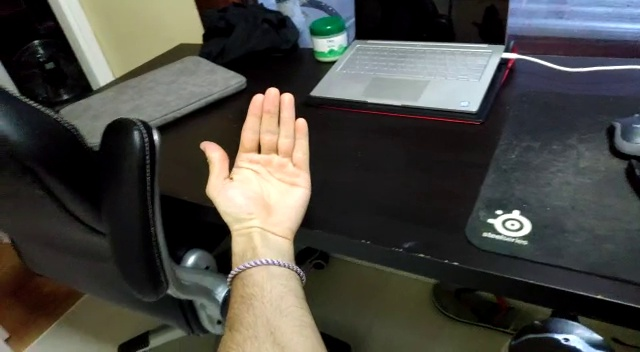Palm: (196, 85, 312, 235)
